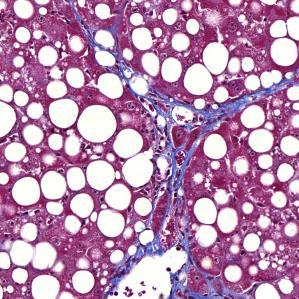fibrosis: (134, 93, 231, 146), (154, 226, 201, 287)
